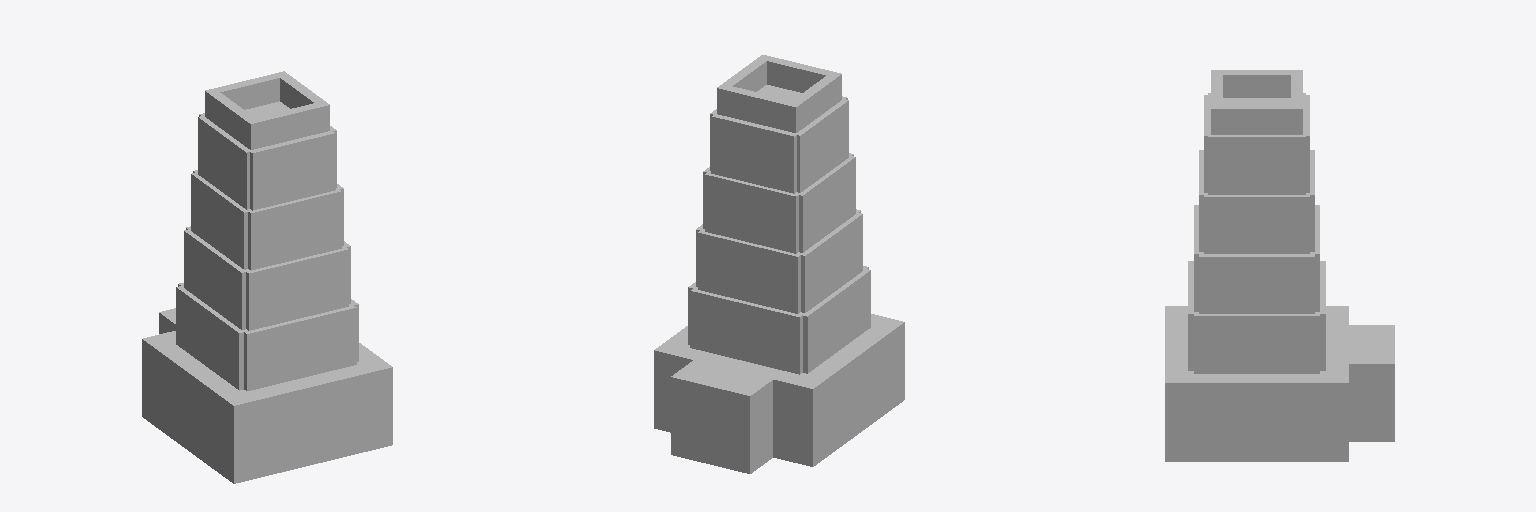
The model's file is blast_furnace.obj.
The picture shows the model from 3 angles: view 1: azimuth 30°, elevation 25°; view 2: azimuth 150°, elevation 25°; view 3: azimuth 270°, elevation 25°; orthographic projection.
Visible parts, largest first — view 1: cube; view 2: cube; view 3: cube.
Boxes of the visible parts, x1,y1,x2,y2 form: cube: [142, 71, 392, 483]; cube: [654, 55, 904, 473]; cube: [1165, 70, 1394, 461].
Bounding box in the file's own units: 2 × 4 × 2.5.